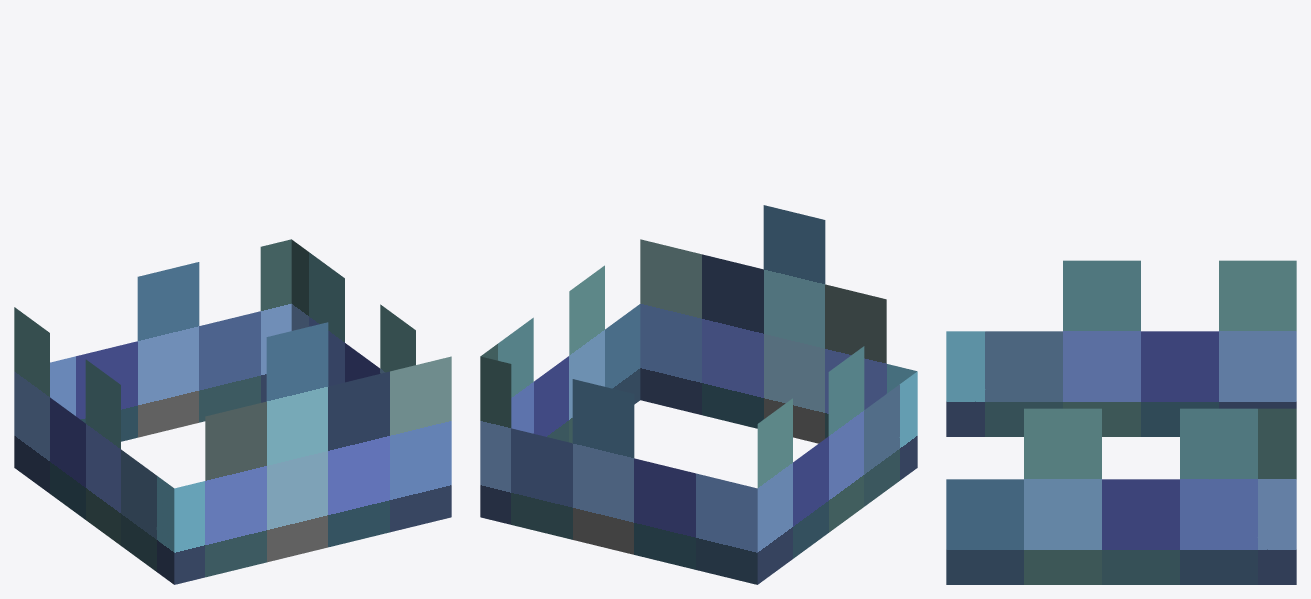
Rendered from sl_ice_crown.glb.
The picture shows the model from 3 angles, left to right: view 1: azimuth 30°, elevation 25°; view 2: azimuth 150°, elevation 25°; view 3: azimuth 270°, elevation 25°; orthographic projection. The views are drawn at different scales.
Visible parts, largest first — view 1: bb_ice_crown; view 2: bb_ice_crown; view 3: bb_ice_crown.
Boxes of the visible parts, box(x1,y1,x2,y2) form: bb_ice_crown: box(14, 239, 451, 584); bb_ice_crown: box(480, 205, 917, 584); bb_ice_crown: box(946, 260, 1296, 584).
Bounding box in the file's own units: 0.5656 × 0.7531 × 0.5656.
Materials: 1 (1 with a texture image).
